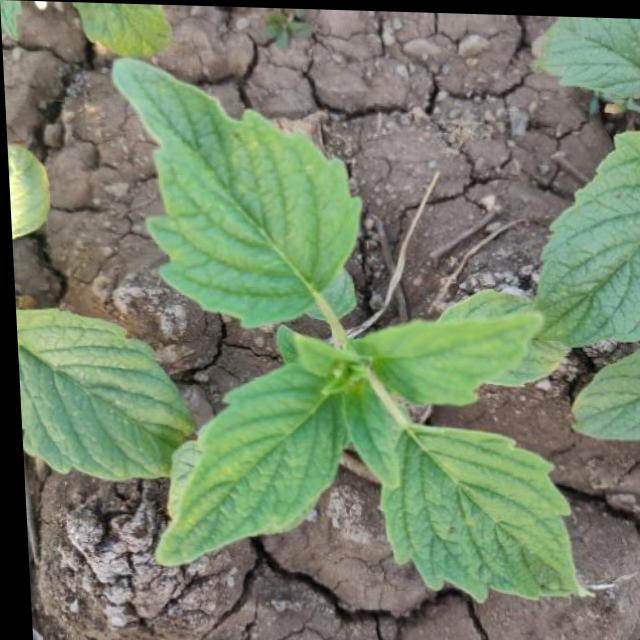crop: (106, 56, 607, 636)
